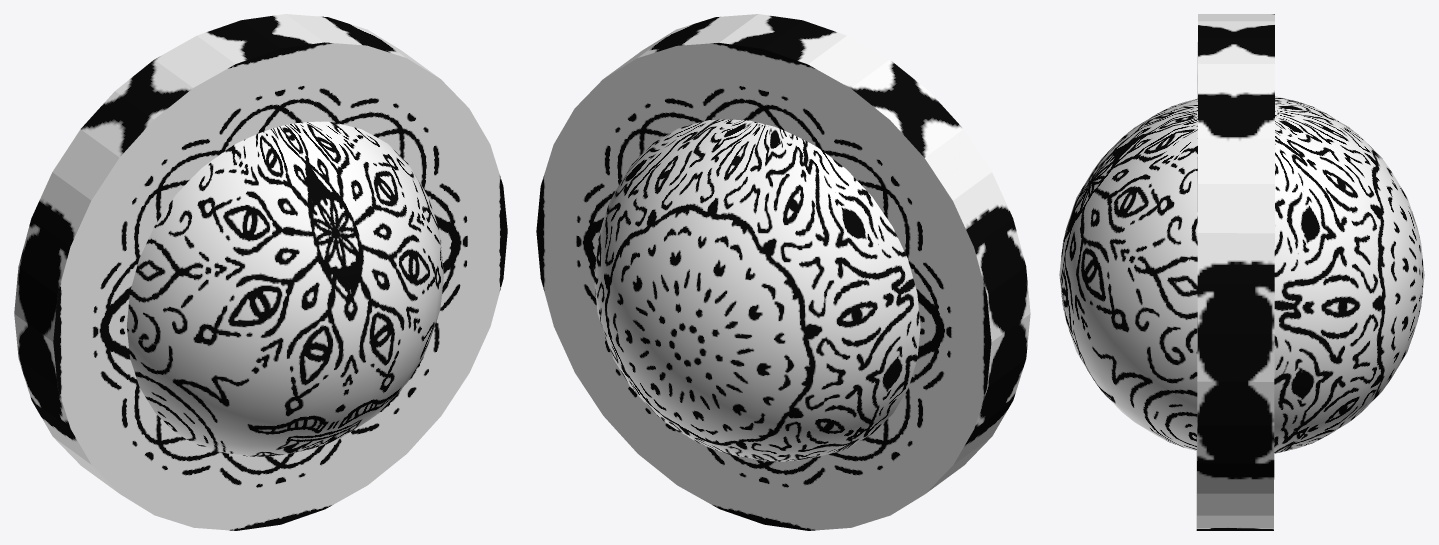
The model's file is SphereB.fbx.
The picture shows the model from 3 angles, left to right: view 1: azimuth 30°, elevation 25°; view 2: azimuth 150°, elevation 25°; view 3: azimuth 270°, elevation 25°; orthographic projection.
Parts seen in each view (by area): view 1: OrbBoxB, OrbWholeB; view 2: OrbBoxB, OrbWholeB; view 3: OrbWholeB, OrbBoxB.
Boxes of the visible parts, x1,y1,x2,y2 form: OrbBoxB: [14, 14, 507, 530]; OrbWholeB: [126, 121, 443, 456]; OrbBoxB: [536, 14, 1030, 530]; OrbWholeB: [594, 119, 920, 461]; OrbWholeB: [1059, 96, 1424, 453]; OrbBoxB: [1196, 14, 1274, 530].
Bounding box in the file's own units: 283 × 283 × 200.
